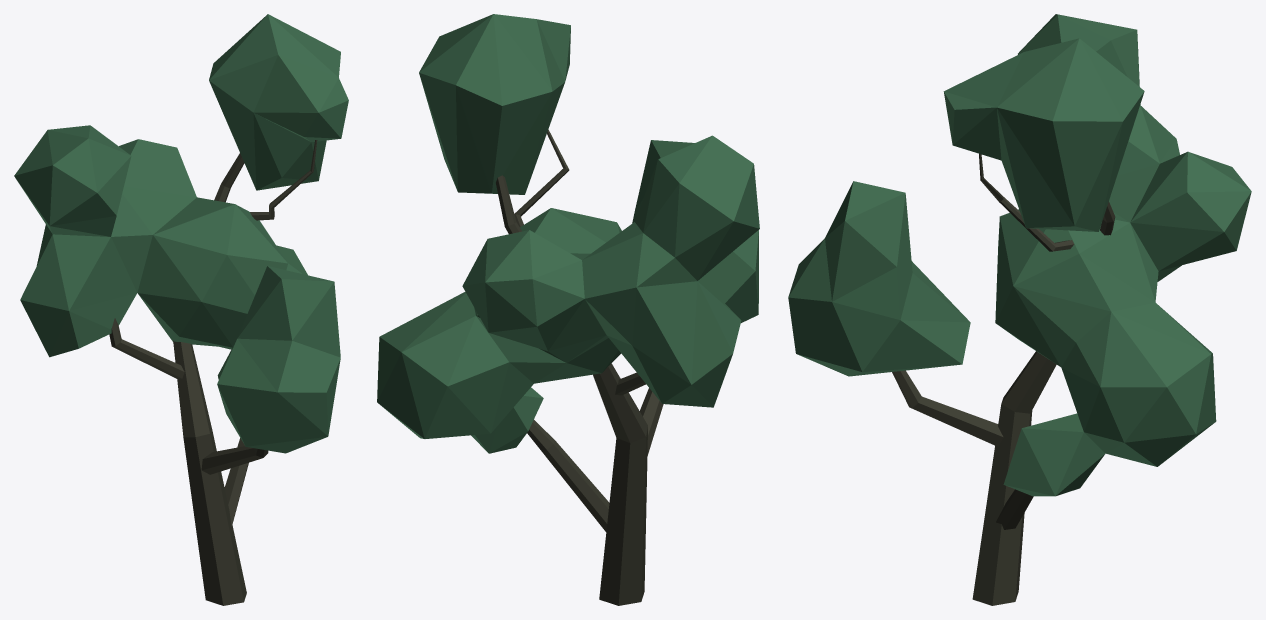
File: Tree_2.glb
3 renders of one model, left to right at view 1: azimuth 30°, elevation 25°; view 2: azimuth 150°, elevation 25°; view 3: azimuth 270°, elevation 25°, orthographic. The views are drawn at different scales.
Visible parts, largest first — view 1: Tree_02; view 2: Tree_02; view 3: Tree_02.
Boxes of the visible parts, <box> form: Tree_02: <box>14,14,348,605</box>; Tree_02: <box>377,14,759,605</box>; Tree_02: <box>788,14,1251,605</box>.
Bounding box in the file's own units: 0.7993 × 1.36 × 0.9529.
